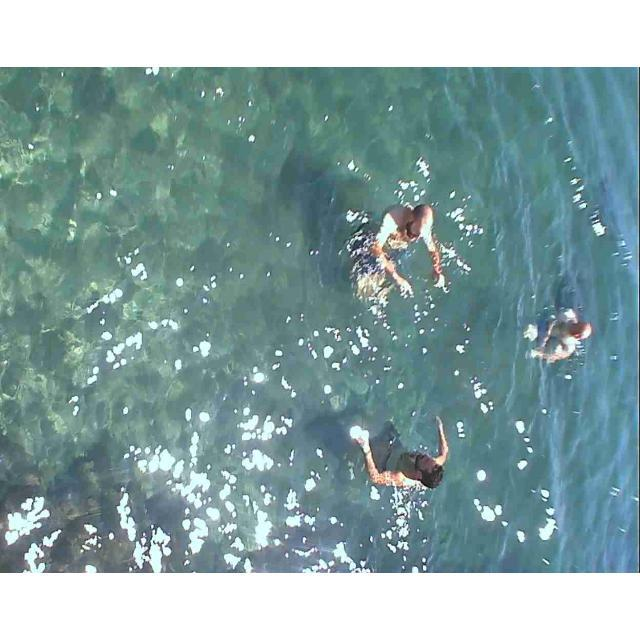human: (351, 194, 446, 301), (348, 410, 450, 495), (525, 296, 591, 364)
